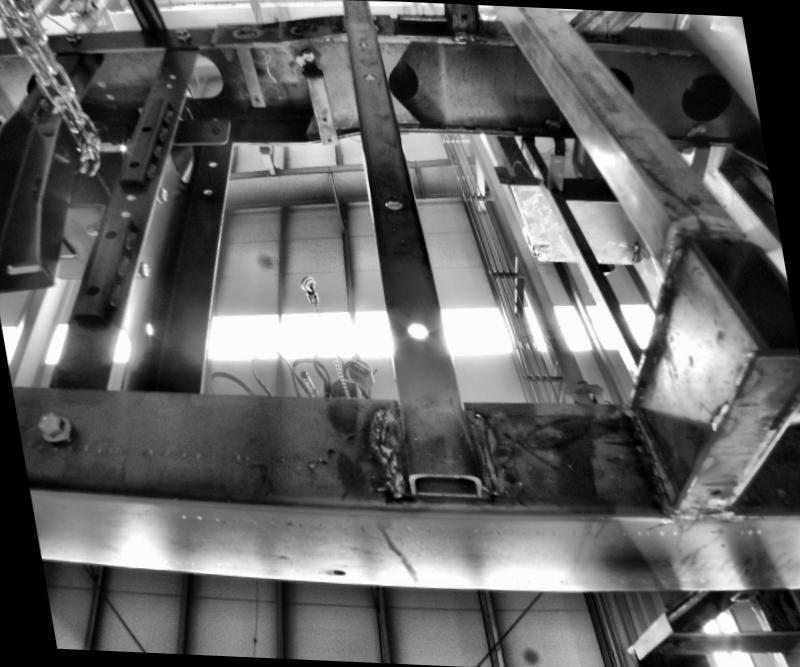bolt: (28, 407, 68, 440), (152, 184, 173, 205), (60, 28, 84, 46), (127, 256, 148, 276), (172, 25, 196, 41)
bracket: (300, 48, 334, 154), (174, 107, 234, 143), (238, 39, 267, 107), (536, 143, 576, 191)
hole: (397, 309, 430, 340), (382, 194, 408, 213), (686, 186, 706, 199), (137, 316, 151, 332), (710, 484, 724, 498), (204, 122, 217, 130), (118, 210, 132, 217), (362, 72, 378, 78), (127, 194, 138, 202), (331, 570, 345, 576), (165, 80, 175, 88), (202, 186, 211, 194), (208, 161, 218, 167), (357, 38, 367, 44), (552, 156, 562, 162), (320, 116, 328, 123), (460, 11, 468, 18), (252, 95, 260, 101), (324, 136, 332, 141), (168, 73, 175, 78)
welding: (463, 400, 509, 494), (374, 398, 398, 503)
